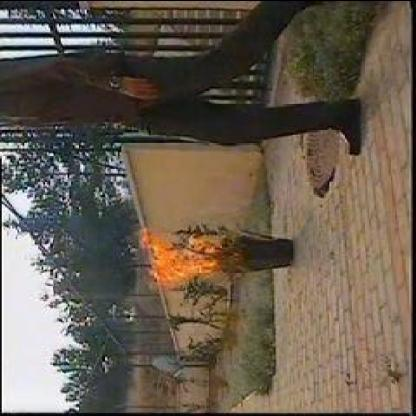foggia-v2-map80-epoch100 - v1 4323: (128, 232, 233, 282)
